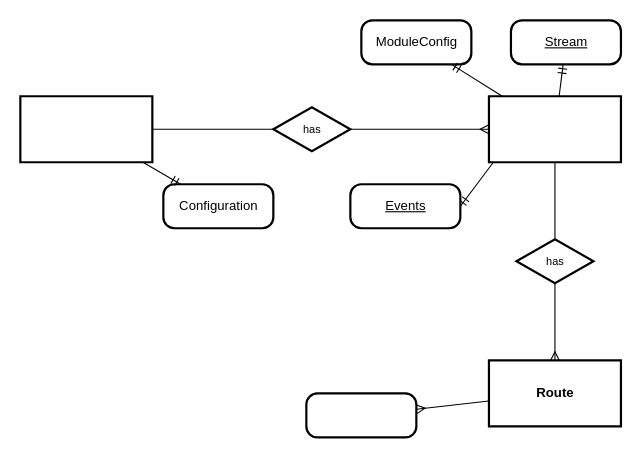
This 640x458 diagram has some shape labels left out. The box of each missing label's shape, as (x1, y1, x2, y2) in pixels:
Data-Logger: (19, 95, 153, 163)
Destination: (305, 392, 417, 438)
Module: (487, 95, 622, 163)
